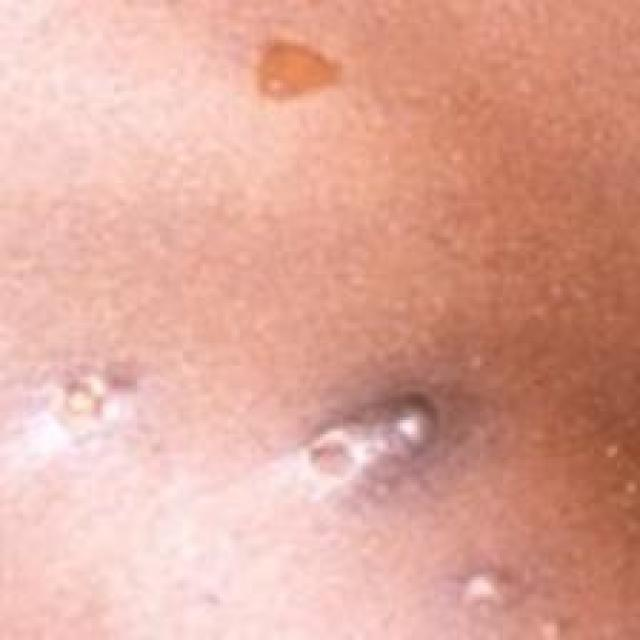monkeypox: (16, 0, 578, 640)
